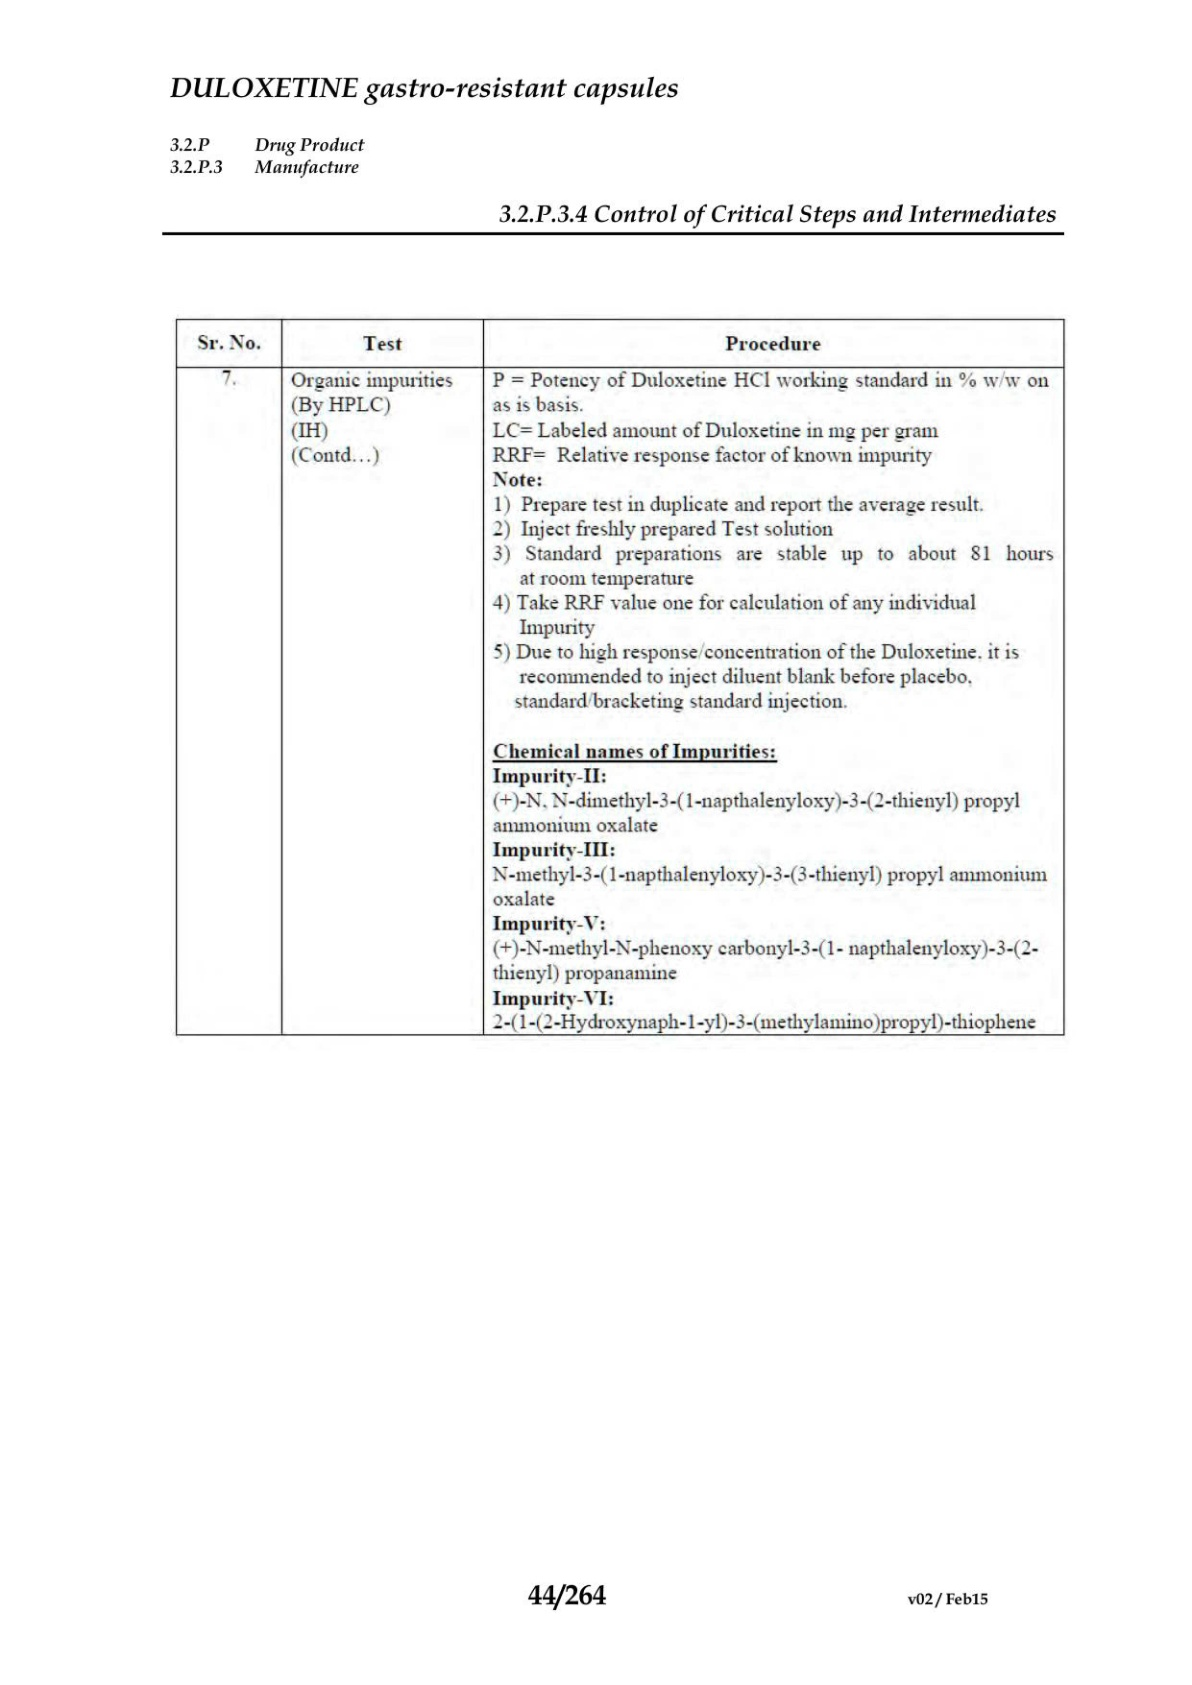full_lined: (174, 317, 1066, 1037)
